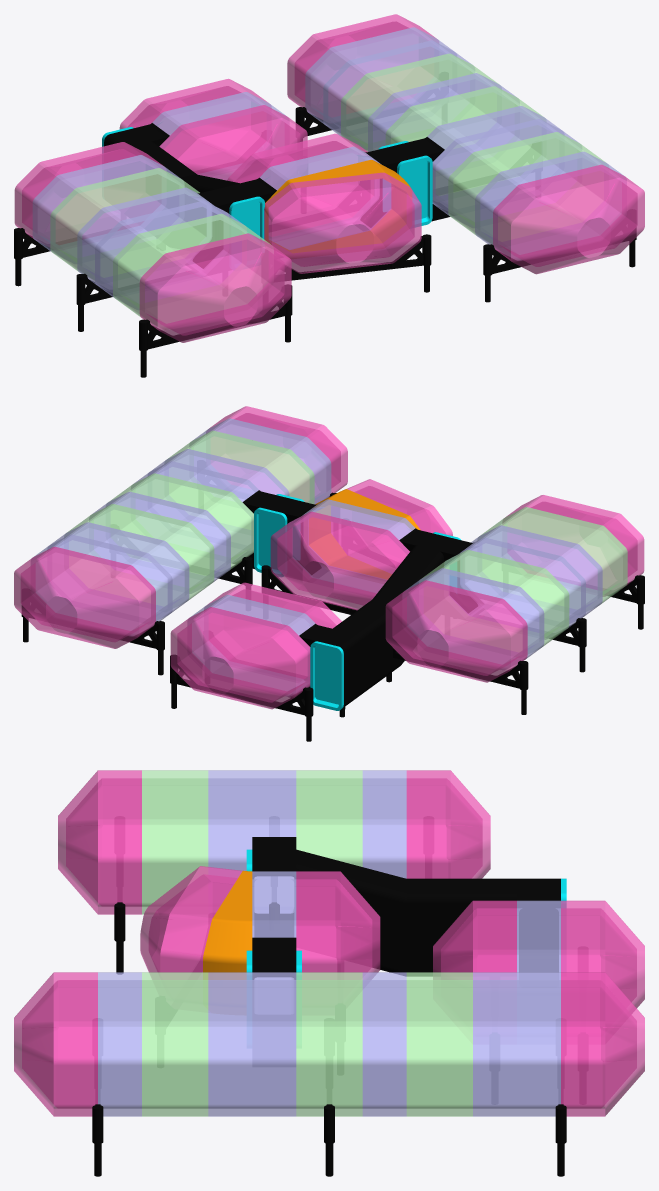
File: AGGREGATION02.glb
3 views of the same model, one above another, from view 1: azimuth 30°, elevation 25°; view 2: azimuth 150°, elevation 25°; view 3: azimuth 270°, elevation 25° (orthographic). The views are drawn at different scales.
Bounding box in the file's own units: 18.9 × 4.91 × 17.17.
